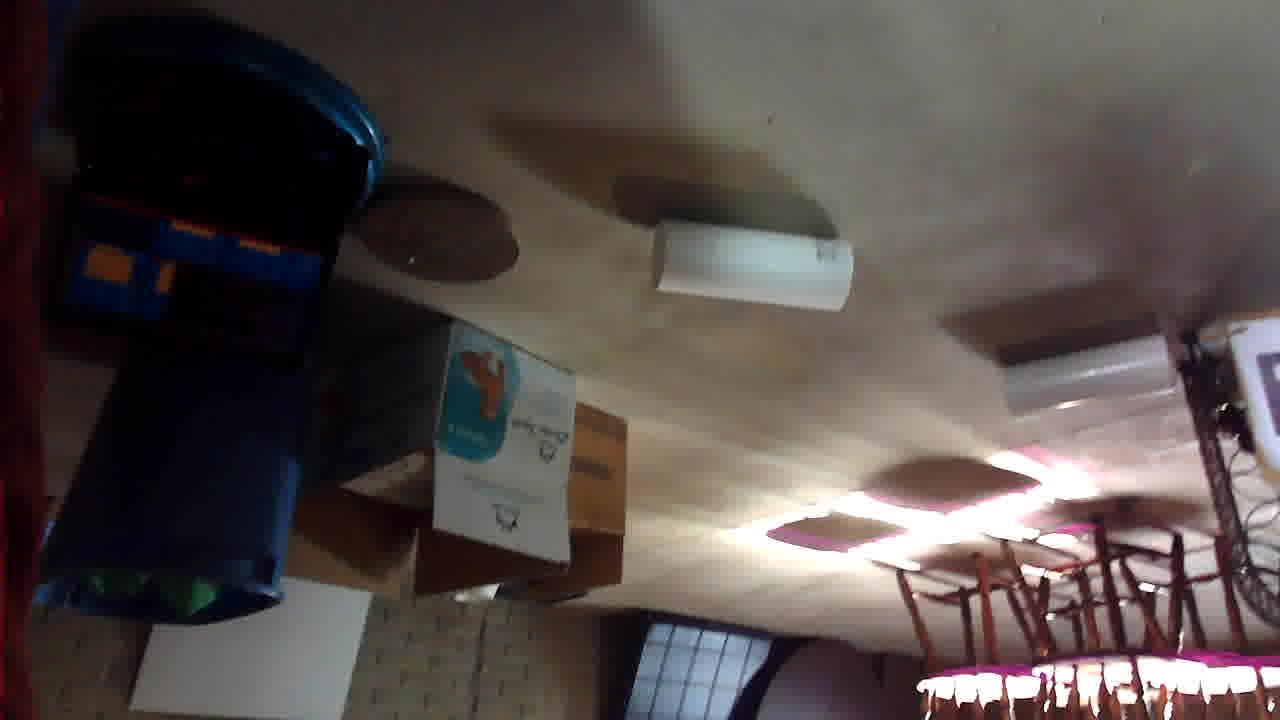coral: (428, 408, 627, 501), (112, 303, 277, 391)
